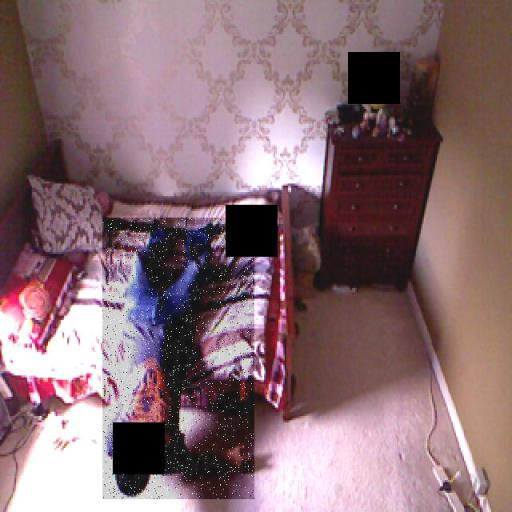Fall: (103, 218, 255, 499)
